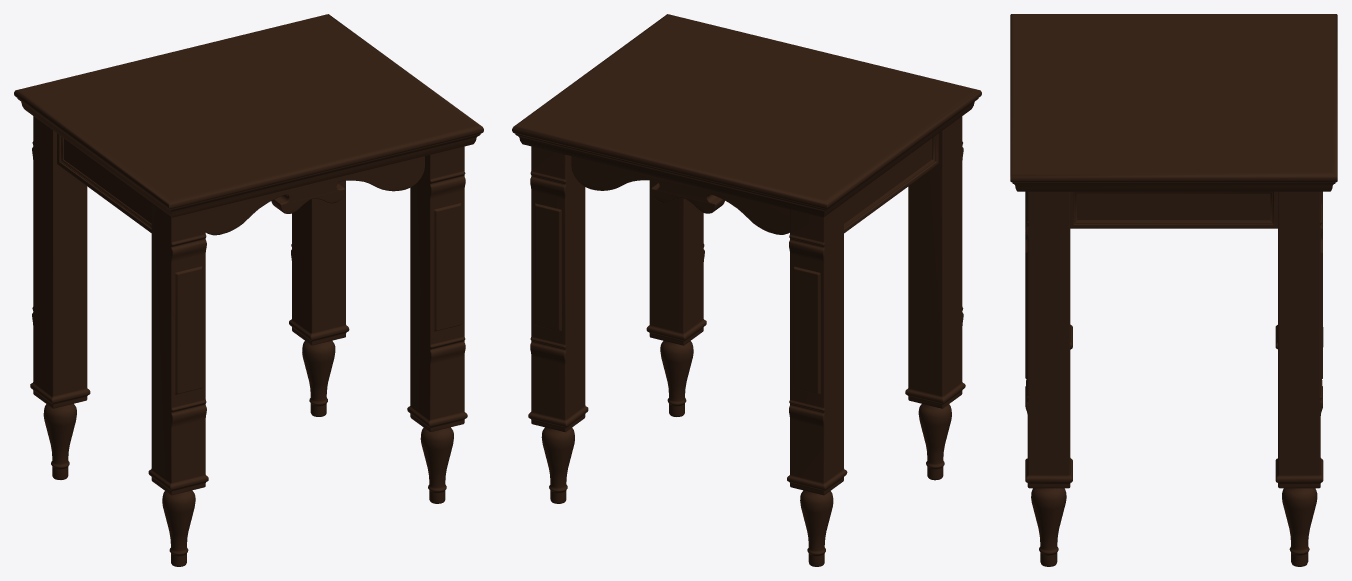
The model's file is desk.glb.
The picture shows the model from 3 angles, left to right: view 1: azimuth 30°, elevation 25°; view 2: azimuth 150°, elevation 25°; view 3: azimuth 270°, elevation 25°; orthographic projection. The views are drawn at different scales.
Visible parts, largest first — view 1: Table_Fancy_Small; view 2: Table_Fancy_Small; view 3: Table_Fancy_Small.
Boxes of the visible parts, left/top/right/bottom form: Table_Fancy_Small: left=14, top=14, right=483, bottom=566; Table_Fancy_Small: left=512, top=14, right=981, bottom=566; Table_Fancy_Small: left=1010, top=14, right=1337, bottom=566.
Size of the model in its own units: 0.7177 by 0.8319 by 0.6116.
